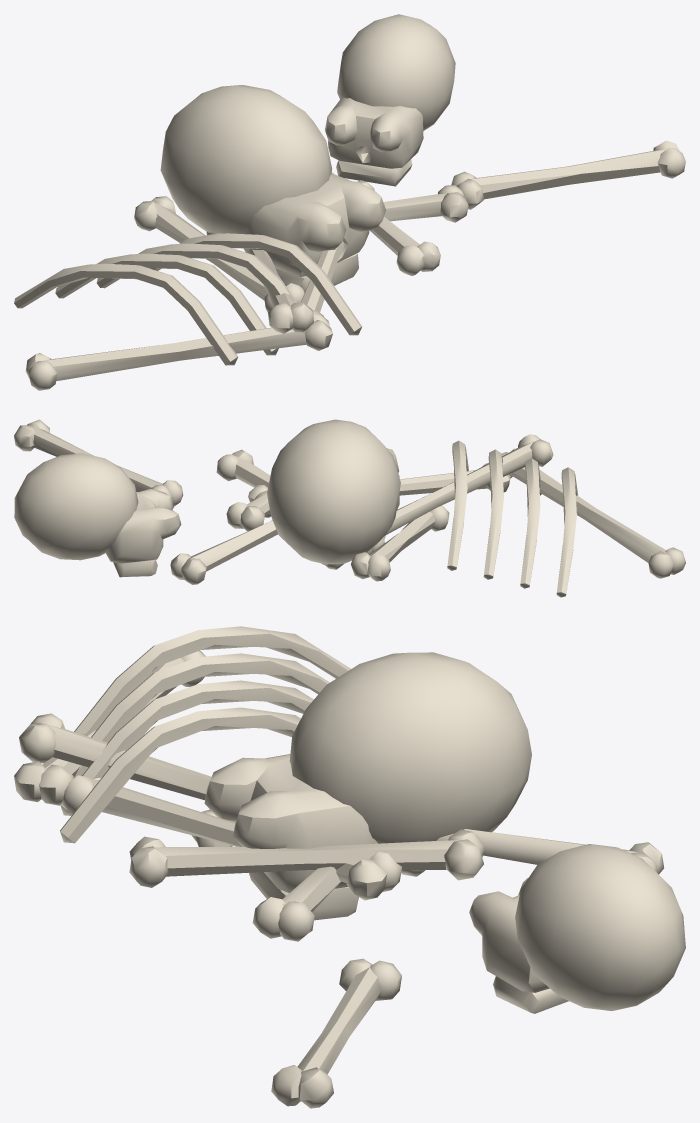
File: SM_Bones_Pile.fbx
3 views of the same model, one above another, from view 1: azimuth 30°, elevation 25°; view 2: azimuth 150°, elevation 25°; view 3: azimuth 270°, elevation 25° (orthographic). The views are drawn at different scales.
Visible parts, largest first — view 1: SM_Bones_Pile; view 2: SM_Bones_Pile; view 3: SM_Bones_Pile.
Boxes of the visible parts, bbox=[...] form: SM_Bones_Pile: bbox=[14, 14, 685, 390]; SM_Bones_Pile: bbox=[14, 419, 685, 597]; SM_Bones_Pile: bbox=[14, 626, 685, 1108].
Bounding box in the file's own units: 1.19 × 0.2677 × 0.735.
